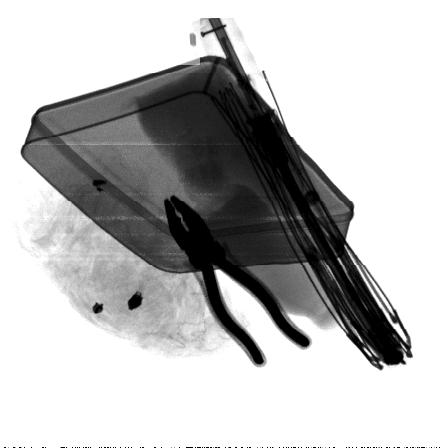Pliers: (162, 193, 314, 369)
